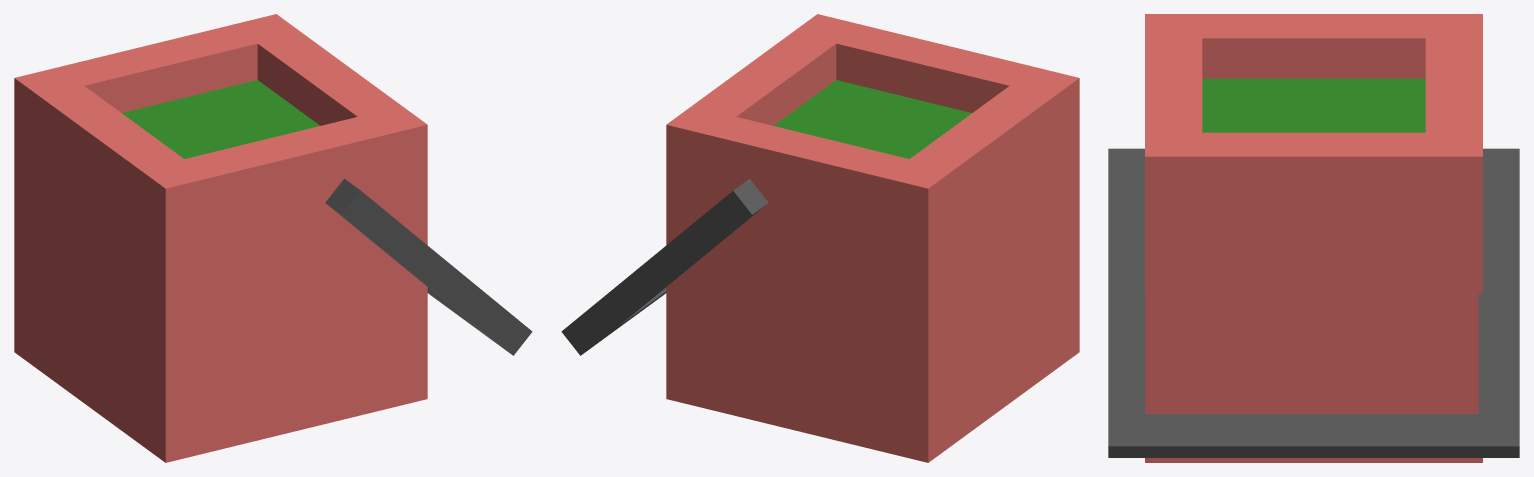
Rendered from CubetaCloro.fbx.
The picture shows the model from 3 angles, left to right: view 1: azimuth 30°, elevation 25°; view 2: azimuth 150°, elevation 25°; view 3: azimuth 270°, elevation 25°; orthographic projection. The views are drawn at different scales.
Visible parts, largest first — view 1: cubeta; view 2: cubeta; view 3: cubeta.
Part boxes in pixels (bbox=[...]): cubeta: bbox=[14, 14, 532, 462]; cubeta: bbox=[561, 14, 1079, 462]; cubeta: bbox=[1108, 14, 1519, 462].
Bounding box in the file's own units: 197 × 147 × 179.
